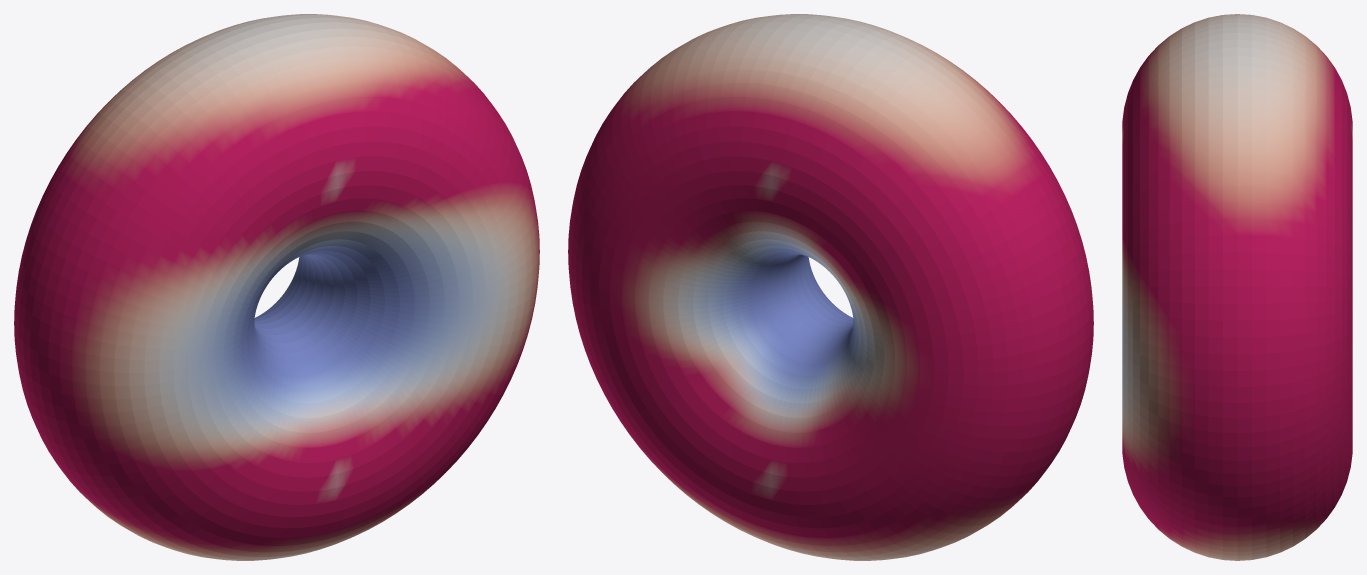
3 renders of one model, left to right at view 1: azimuth 30°, elevation 25°; view 2: azimuth 150°, elevation 25°; view 3: azimuth 270°, elevation 25°, orthographic. The views are drawn at different scales.
Visible parts, largest first — view 1: world; view 2: world; view 3: world.
Boxes of the visible parts, x1,y1,x2,y2 form: world: [14, 14, 539, 560]; world: [568, 14, 1093, 560]; world: [1122, 14, 1352, 560].
Bounding box in the file's own units: 23.07 × 23.07 × 9.71.
